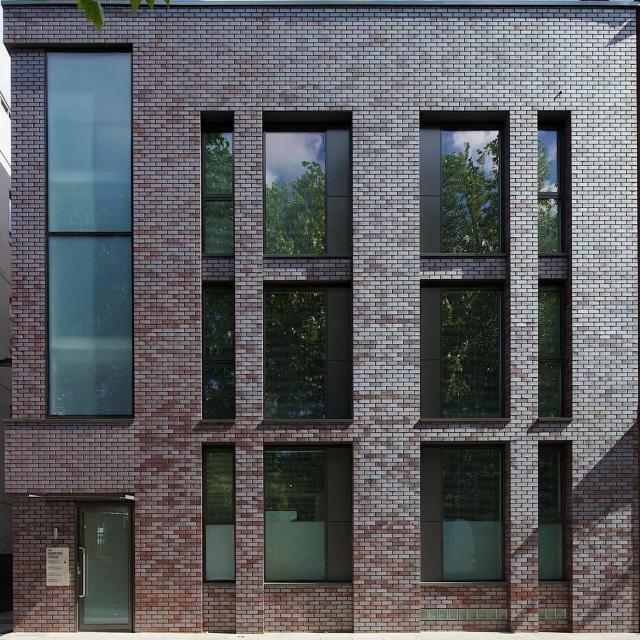door: (78, 506, 130, 629)
wall: (3, 2, 637, 630)
windows: (45, 47, 133, 419), (258, 282, 354, 420), (264, 117, 352, 258), (419, 118, 499, 251), (441, 451, 507, 585), (260, 450, 325, 582), (440, 287, 503, 420), (198, 279, 230, 420), (203, 112, 230, 261), (535, 286, 564, 416), (205, 450, 233, 580), (536, 450, 560, 582), (536, 125, 558, 254)
